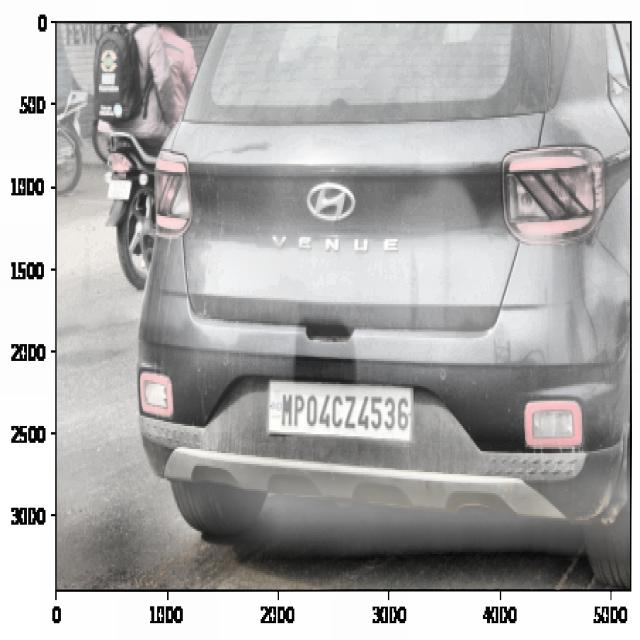license_plate: (276, 385, 414, 442)
